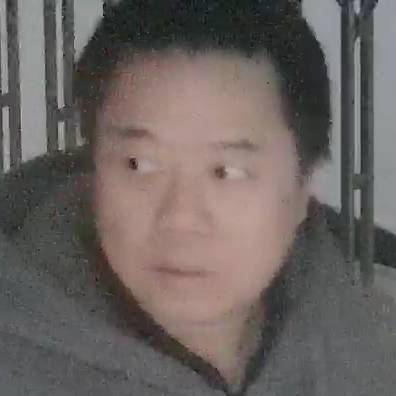cb: (61, 31, 362, 332)
